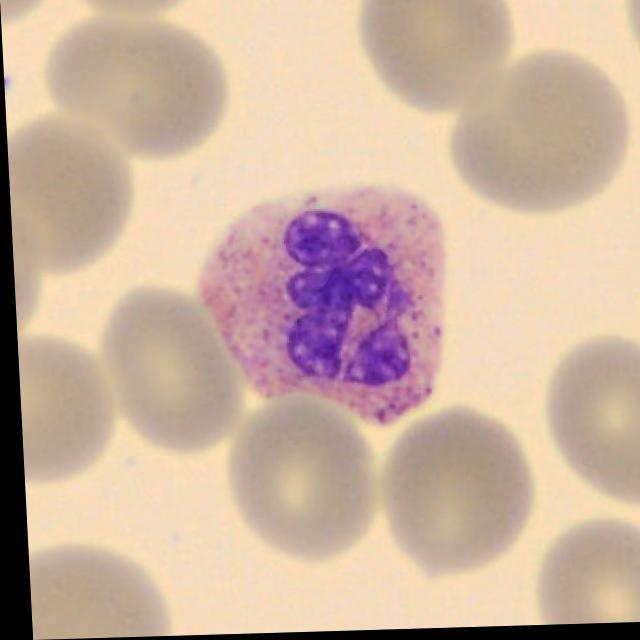Neutrofilo segmentado: (195, 188, 443, 430)
